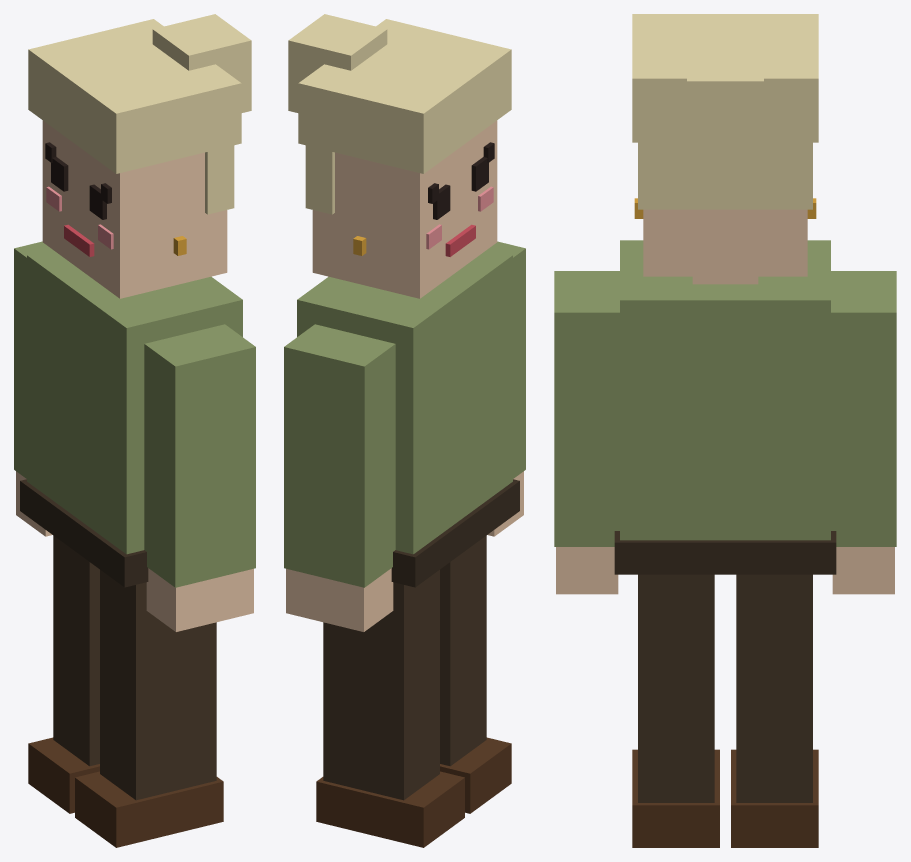
The model's file is millers_mom.glb.
3 renders of one model, left to right at view 1: azimuth 30°, elevation 25°; view 2: azimuth 150°, elevation 25°; view 3: azimuth 270°, elevation 25°, orthographic. The views are drawn at different scales.
Parts seen in each view (by area): view 1: Box9, Box3, Box22, Box1, Box12, Box5, Box2, Box4, Box24, Box10, Box7, Box6 (+3 smaller); view 2: Box9, Box7, Box22, Box5, Box12, Box1, Box6, Box8, Box24, Box10, Box3, Box2 (+3 smaller); view 3: Box9, Box3, Box7, Box1, Box5, Box22, Box12, Box23, Box24, Box10, Box2, Box6 (+2 smaller).
Boxes of the visible parts, bbox=[...] form: Box9: bbox=[27, 249, 242, 554]; Box3: bbox=[144, 324, 255, 587]; Box22: bbox=[28, 19, 241, 173]; Box1: bbox=[100, 570, 216, 800]; Box12: bbox=[42, 120, 227, 298]; Box5: bbox=[53, 535, 99, 766]; Box2: bbox=[75, 771, 223, 847]; Box4: bbox=[146, 568, 253, 631]; Box24: bbox=[152, 14, 251, 112]; Box10: bbox=[20, 479, 148, 587]; Box7: bbox=[14, 241, 51, 478]; Box6: bbox=[28, 737, 99, 813]; Box9: bbox=[297, 249, 512, 554]; Box7: bbox=[284, 324, 395, 587]; Box22: bbox=[298, 19, 511, 173]; Box5: bbox=[323, 570, 439, 800]; Box12: bbox=[312, 120, 497, 298]; Box1: bbox=[440, 535, 486, 766]; Box6: bbox=[316, 771, 464, 847]; Box8: bbox=[286, 568, 393, 631]; Box24: bbox=[288, 14, 387, 112]; Box10: bbox=[391, 479, 519, 587]; Box3: bbox=[488, 241, 525, 478]; Box2: bbox=[440, 737, 511, 813]; Box9: bbox=[620, 240, 830, 540]; Box3: bbox=[554, 271, 619, 546]; Box7: bbox=[831, 271, 896, 546]; Box1: bbox=[638, 574, 714, 802]; Box5: bbox=[736, 574, 812, 802]; Box22: bbox=[632, 14, 818, 142]; Box12: bbox=[643, 209, 807, 276]; Box23: bbox=[638, 142, 812, 209]; Box24: bbox=[687, 49, 763, 155]; Box10: bbox=[614, 531, 836, 574]; Box2: bbox=[632, 749, 719, 847]; Box6: bbox=[731, 749, 818, 847].
Bounding box in the file's own units: 0.4082 × 1.81 × 0.7088.
